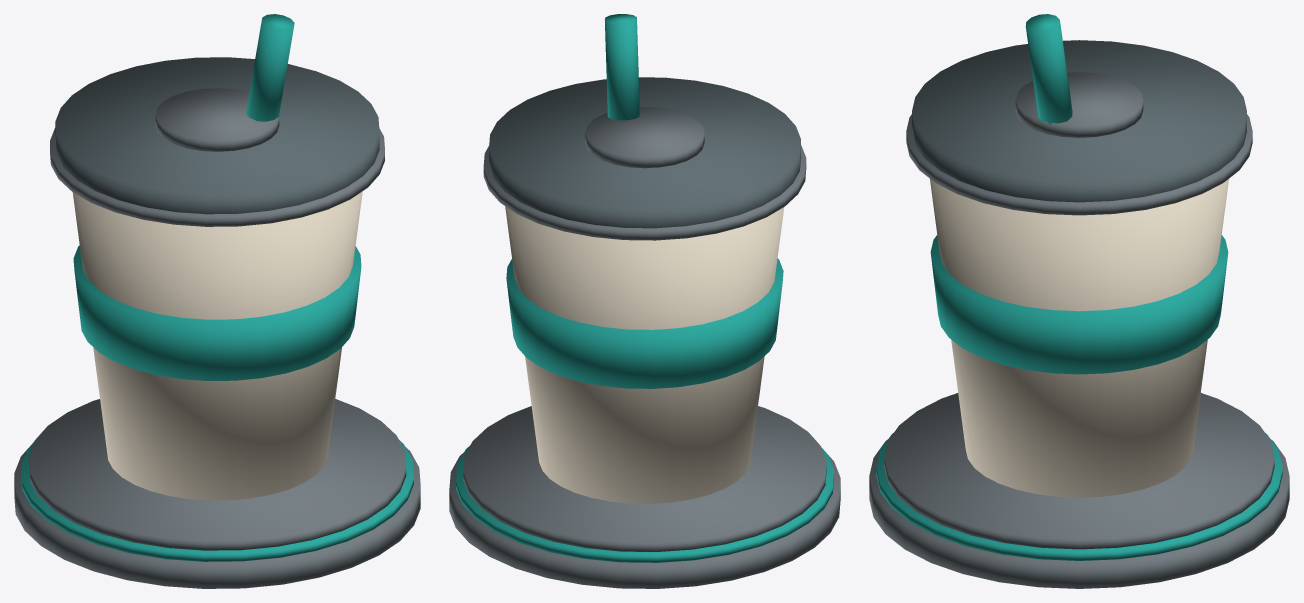
Rendered from FrappeCup.glb.
3 renders of one model, left to right at view 1: azimuth 30°, elevation 25°; view 2: azimuth 150°, elevation 25°; view 3: azimuth 270°, elevation 25°, orthographic. The views are drawn at different scales.
Parts seen in each view (by area): view 1: Cup_tapered_body, Cup_lid, Base_top, Cup_accent_sleeve, Base_foot, Cup_lid_center, Base_accent_ring, Cup_lid_rim, Cup_short_straw; view 2: Cup_tapered_body, Cup_lid, Base_top, Cup_accent_sleeve, Base_foot, Cup_lid_center, Base_accent_ring, Cup_lid_rim, Cup_short_straw; view 3: Cup_tapered_body, Cup_lid, Base_top, Cup_accent_sleeve, Base_foot, Base_accent_ring, Cup_lid_center, Cup_lid_rim, Cup_short_straw.
Part boxes in pixels (left/top/right/bottom): Cup_tapered_body: left=72, top=191, right=362, bottom=500; Cup_lid: left=55, top=57, right=379, bottom=214; Base_top: left=28, top=399, right=406, bottom=550; Cup_accent_sleeve: left=73, top=245, right=361, bottom=380; Base_foot: left=14, top=447, right=420, bottom=588; Cup_lid_center: left=155, top=88, right=279, bottom=151; Base_accent_ring: left=21, top=440, right=413, bottom=561; Cup_lid_rim: left=50, top=128, right=384, bottom=226; Cup_short_straw: left=246, top=14, right=294, bottom=121; Cup_tapered_body: left=505, top=206, right=784, bottom=503; Cup_lid: left=489, top=77, right=800, bottom=228; Base_top: left=463, top=406, right=826, bottom=551; Cup_accent_sleeve: left=506, top=258, right=783, bottom=388; Base_foot: left=449, top=452, right=840, bottom=588; Cup_lid_center: left=585, top=107, right=704, bottom=168; Base_accent_ring: left=456, top=446, right=833, bottom=562; Cup_lid_rim: left=483, top=145, right=806, bottom=240; Cup_short_straw: left=605, top=14, right=639, bottom=120; Cup_tapered_body: left=930, top=179, right=1228, bottom=497; Cup_lid: left=912, top=40, right=1246, bottom=202; Base_top: left=884, top=393, right=1274, bottom=549; Cup_accent_sleeve: left=930, top=235, right=1228, bottom=374; Base_foot: left=869, top=439, right=1289, bottom=588; Base_accent_ring: left=876, top=433, right=1282, bottom=560; Cup_lid_center: left=1015, top=72, right=1143, bottom=137; Cup_lid_rim: left=906, top=114, right=1252, bottom=215; Cup_short_straw: left=1025, top=14, right=1072, bottom=124.
Size of the model in its own units: 0.79 by 1.04 by 0.79.
